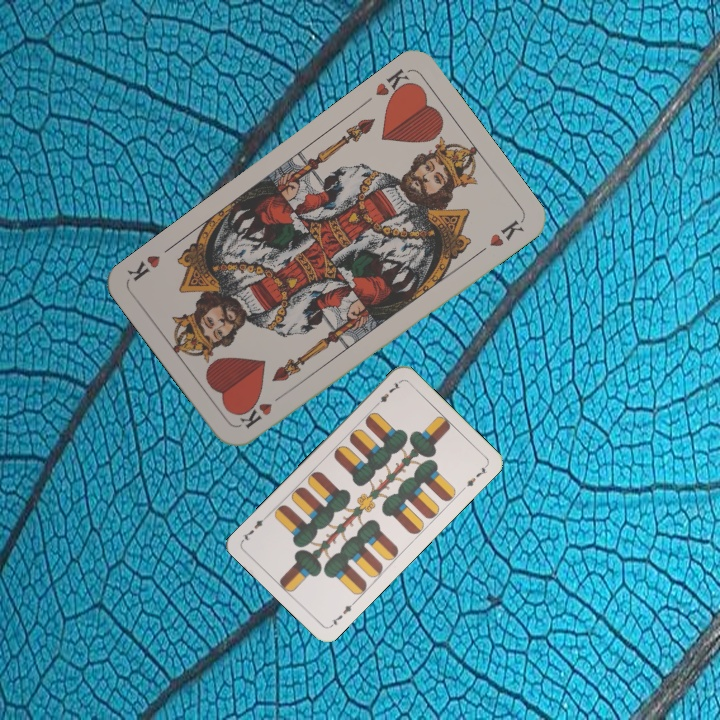E7: (371, 377, 403, 410), (326, 597, 358, 630)
HK: (235, 388, 288, 431), (371, 64, 417, 105)
